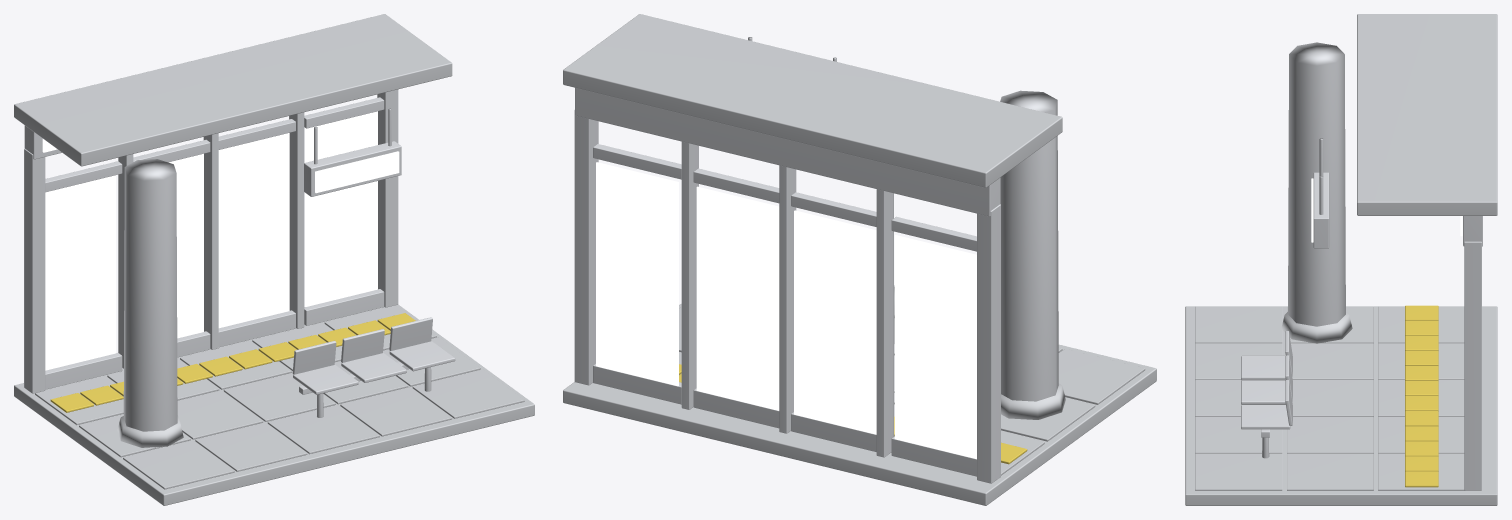
The model's file is subway-platform-screen-door-bay-v14.glb.
3 renders of one model, left to right at view 1: azimuth 30°, elevation 25°; view 2: azimuth 150°, elevation 25°; view 3: azimuth 270°, elevation 25°, orthographic. The views are drawn at different scales.
Visible parts, largest first — view 1: SubwayGranitePlatform, SubwayStainlessPsdAndBench, SubwayPsdGlassAndLed, SubwaySafetyTactileLine; view 2: SubwayPsdGlassAndLed, SubwayStainlessPsdAndBench, SubwayGranitePlatform; view 3: SubwayGranitePlatform, SubwayStainlessPsdAndBench, SubwaySafetyTactileLine.
Boxes of the visible parts, x1=… form: SubwayGranitePlatform: x1=14, y1=14, x2=534, y2=505; SubwayStainlessPsdAndBench: x1=24, y1=89, x2=455, y2=431; SubwayPsdGlassAndLed: x1=42, y1=111, x2=399, y2=370; SubwaySafetyTactileLine: x1=50, y1=313, x2=415, y2=412; SubwayPsdGlassAndLed: x1=596, y1=162, x2=976, y2=459; SubwayStainlessPsdAndBench: x1=574, y1=37, x2=1058, y2=483; SubwayGranitePlatform: x1=563, y1=14, x2=1156, y2=505; SubwayGranitePlatform: x1=1185, y1=14, x2=1497, y2=505; SubwayStainlessPsdAndBench: x1=1241, y1=42, x2=1482, y2=490; SubwaySafetyTactileLine: x1=1405, y1=305, x2=1438, y2=487.
Bounding box in the file's own units: 4 × 3.01 × 2.8.
